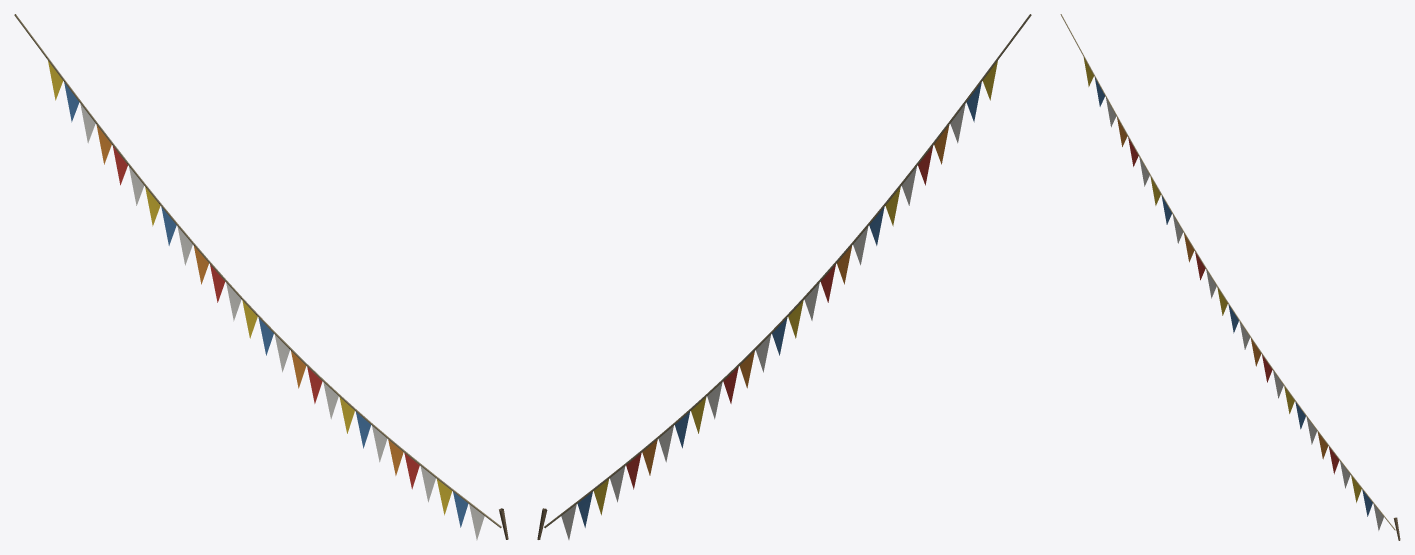
Rendered from bunting.glb.
3 renders of one model, left to right at view 1: azimuth 30°, elevation 25°; view 2: azimuth 150°, elevation 25°; view 3: azimuth 330°, elevation 25°, orthographic. The views are drawn at different scales.
Parts seen in each view (by area): view 1: bunting; view 2: bunting; view 3: bunting.
Boxes of the visible parts, bbox=[...] form: bunting: bbox=[14, 14, 508, 540]; bunting: bbox=[537, 14, 1031, 539]; bunting: bbox=[1060, 14, 1400, 540].
Size of the model in its own units: 11.58 by 14.47 by 0.0995.
